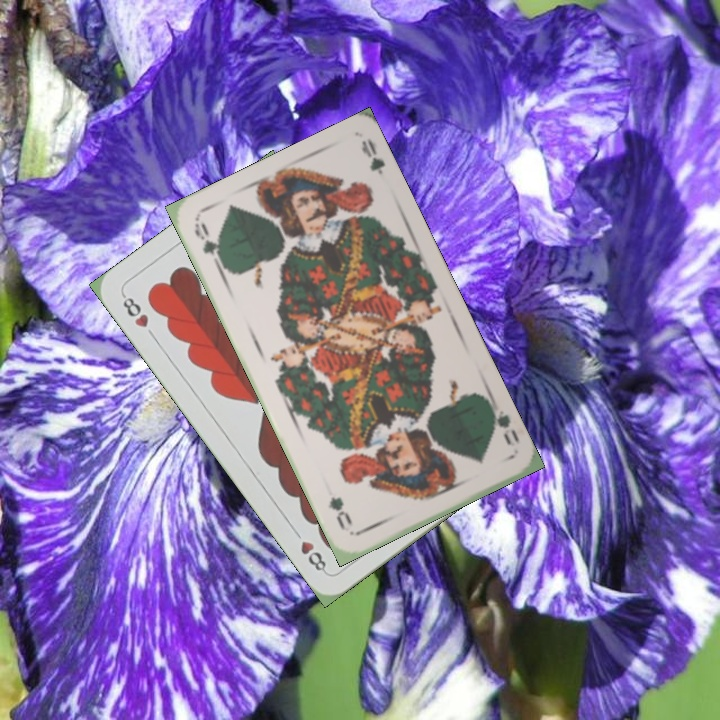GO: (190, 218, 231, 274), (485, 399, 523, 450)
H8: (117, 290, 151, 331)
